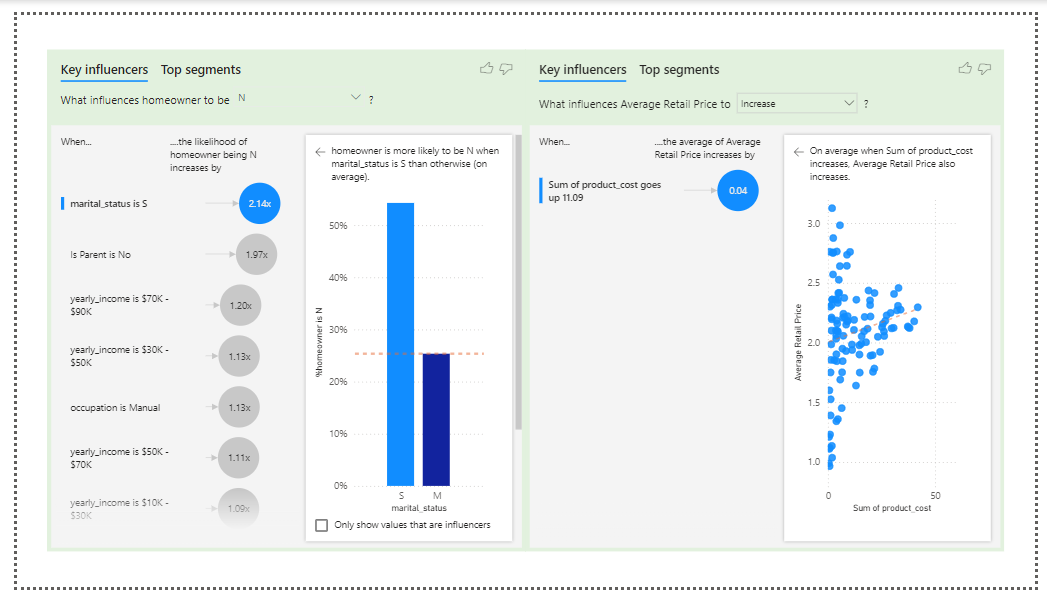

What the dashboard file says about the page in this screenshot:
{"tool":"powerbi","page":{"name":"Key Influencers","canvas":[1280,720],"ordinal":7},"visuals":[{"type":"keyDriversVisual","fields":{"Target":["Customer Lookup.homeowner"],"ExplainBy":["Customer Lookup.yearly_income","Customer Lookup.education","Customer Lookup.Is Parent","Customer Lookup.marital_status","Customer Lookup.occupation"]},"box":[38.3,43.5,602,631.6],"z":0},{"type":"keyDriversVisual","fields":{"Target":["Measure Table.Average Retail Price"],"ExplainBy":["Sum(Product Lookup.product_cost)"],"Details":["Product Lookup.product_brand"]},"box":[640.3,43.5,602,631.6],"z":1}]}

Visuals, with their boxes in screenshot pixels (x1, y1, x2, y2), scaled from the page's 1280x720 canvas onto the 1047x592 screenshot:
keyDriversVisual - Customer Lookup.homeowner x Customer Lookup.yearly_income: {"x1": 31, "y1": 36, "x2": 524, "y2": 555}
keyDriversVisual - Measure Table.Average Retail Price x Sum(Product Lookup.product_cost): {"x1": 524, "y1": 36, "x2": 1016, "y2": 555}
